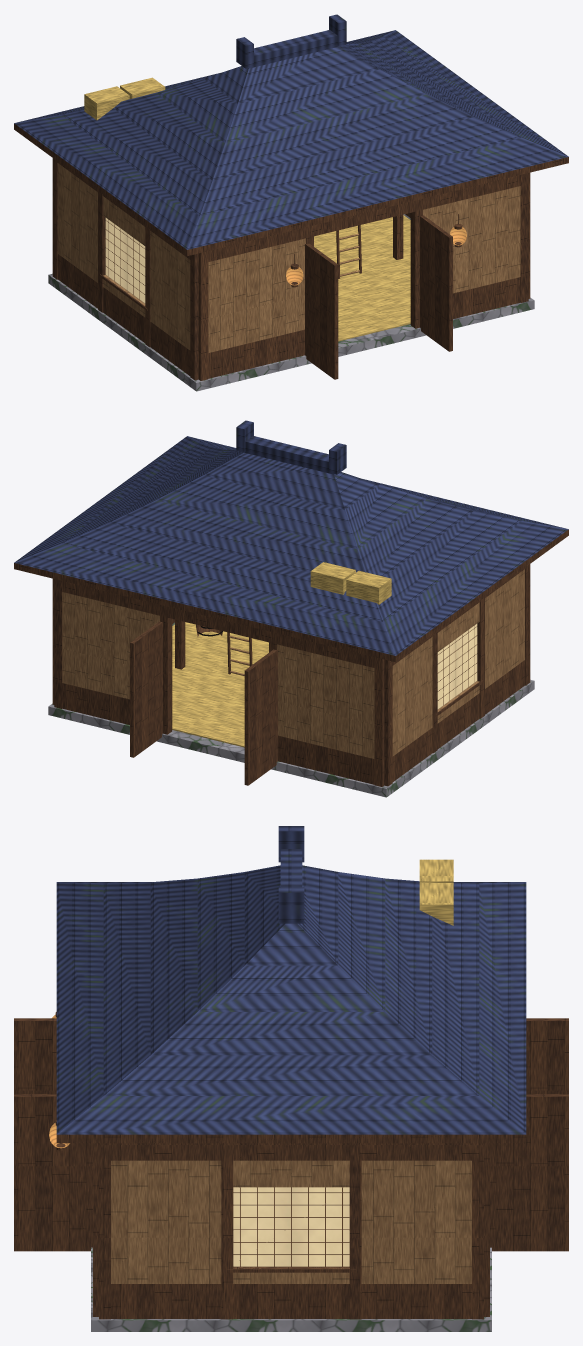
Rendered from house_barn.gltf.
3 views of the same model, one above another, from view 1: azimuth 30°, elevation 25°; view 2: azimuth 150°, elevation 25°; view 3: azimuth 270°, elevation 25° (orthographic). The views are drawn at different scales.
Parts seen in each view (by area): view 1: Building; view 2: Building; view 3: Building.
Boxes of the visible parts, x1=… form: Building: x1=14, y1=14, x2=568, y2=391; Building: x1=14, y1=420, x2=568, y2=797; Building: x1=14, y1=826, x2=568, y2=1331.
Bounding box in the file's own units: 14 × 9.32 × 13.
Materials: 8 (8 with a texture image).
